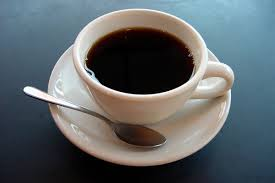cup: (70, 6, 241, 126)
